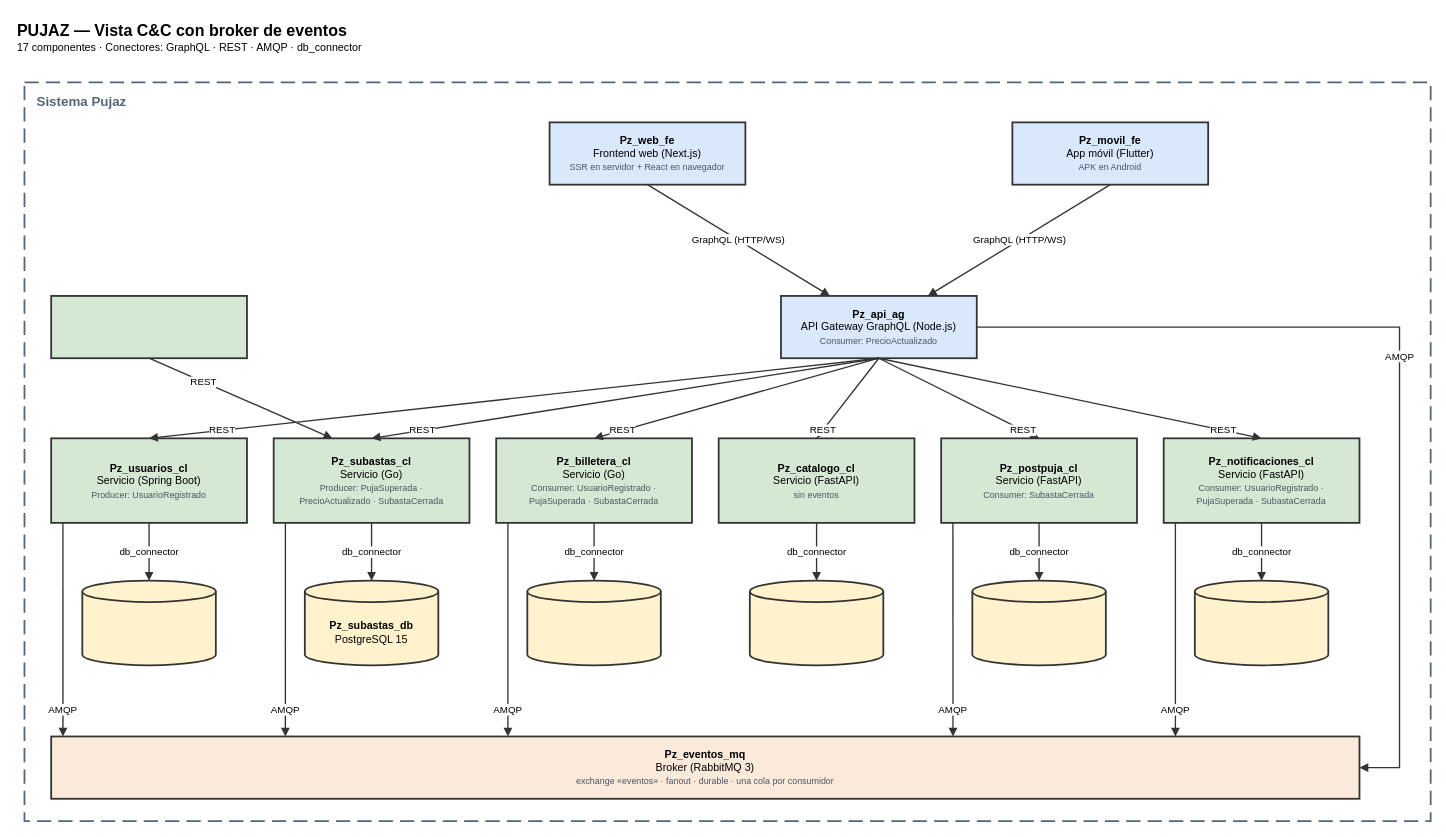
Some shapes in this 1446 by 837 pixel diagram are drawn without their labels. The centre of each missing label's shape, as x and y in pixels:
"Pz_billetera_db PostgreSQL 15" goes at (593,622).
"Pz_catalogo_db MongoDB 6" goes at (816,622).
"Pz_cierre_cl Worker de cierre (Go) cada minuto" goes at (148,327).
"Pz_notificaciones_db Redis" goes at (1261,622).
"Pz_postpuja_db MongoDB 6" goes at (1038,622).
"Pz_usuarios_db PostgreSQL 15" goes at (148,622).
